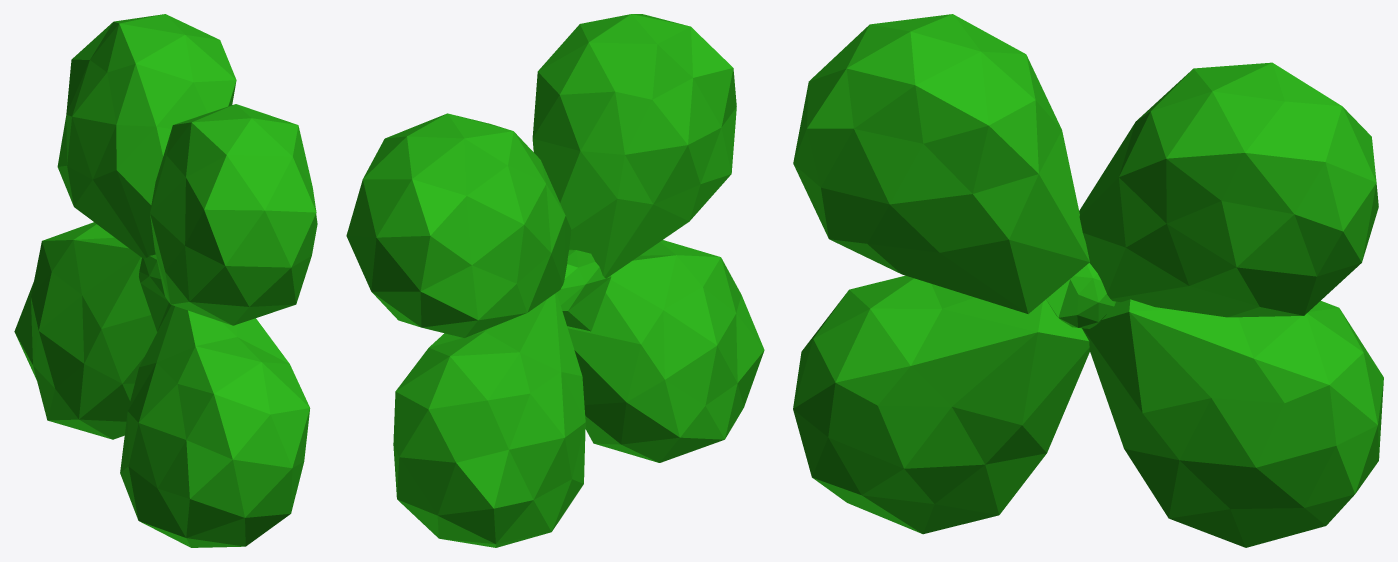
Rendered from Clover1.obj.
The picture shows the model from 3 angles, left to right: view 1: azimuth 30°, elevation 25°; view 2: azimuth 150°, elevation 25°; view 3: azimuth 270°, elevation 25°; orthographic projection. The views are drawn at different scales.
Parts seen in each view (by area): view 1: Clover1; view 2: Clover1; view 3: Clover1.
Part boxes in pixels (left/top/right/bottom): Clover1: left=14, top=14, right=317, bottom=547; Clover1: left=346, top=14, right=764, bottom=547; Clover1: left=793, top=14, right=1383, bottom=547.
Bounding box in the file's own units: 2.16 × 4.15 × 4.36.
